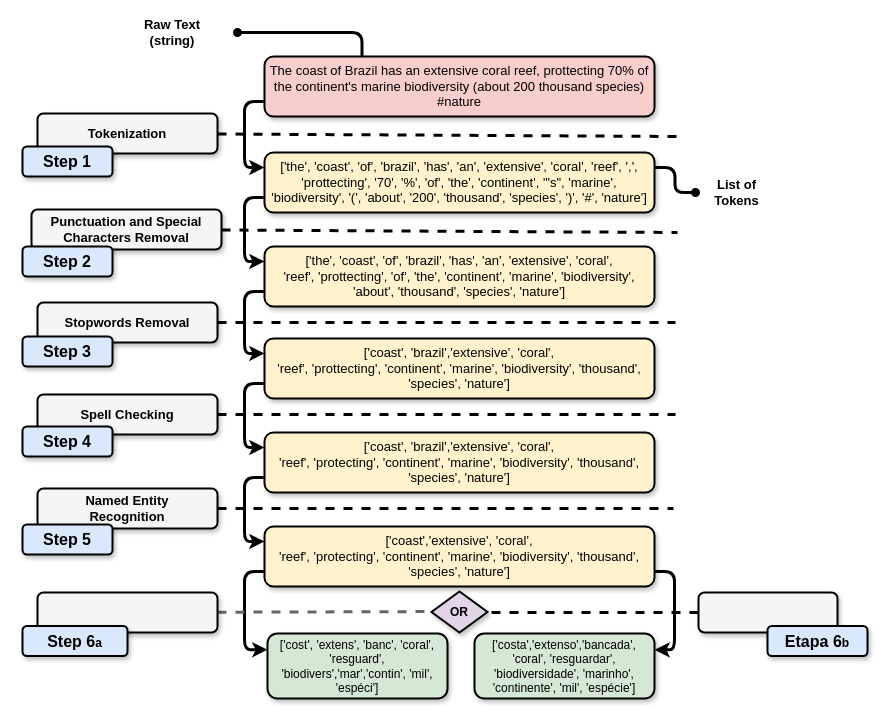
The diagram is 891 pixels wide and 724 high, and some of its shapes have lost their labels. Each missing label, with the centre of its shape:
"Lemmatization" goes at point 768,613.
"Stemming" goes at point 128,613.
